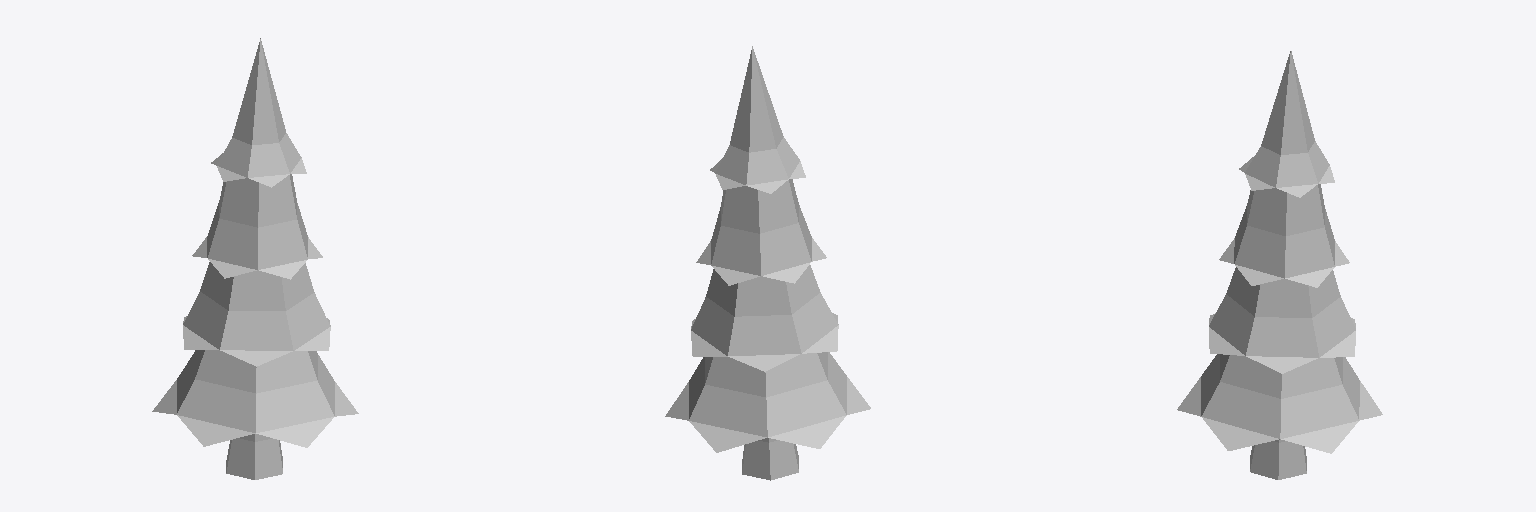
Rendered from Pine_6.obj.
3 views of the same model, side by side, from view 1: azimuth 30°, elevation 25°; view 2: azimuth 150°, elevation 25°; view 3: azimuth 270°, elevation 25° (orthographic).
Visible parts, largest first — view 1: Pine_6; view 2: Pine_6; view 3: Pine_6.
Boxes of the visible parts, box(x1,y1,x2,y2) form: Pine_6: box(152, 38, 358, 479); Pine_6: box(665, 46, 870, 480); Pine_6: box(1177, 51, 1382, 479).
Size of the model in its own units: 1.18 by 3.01 by 1.33.